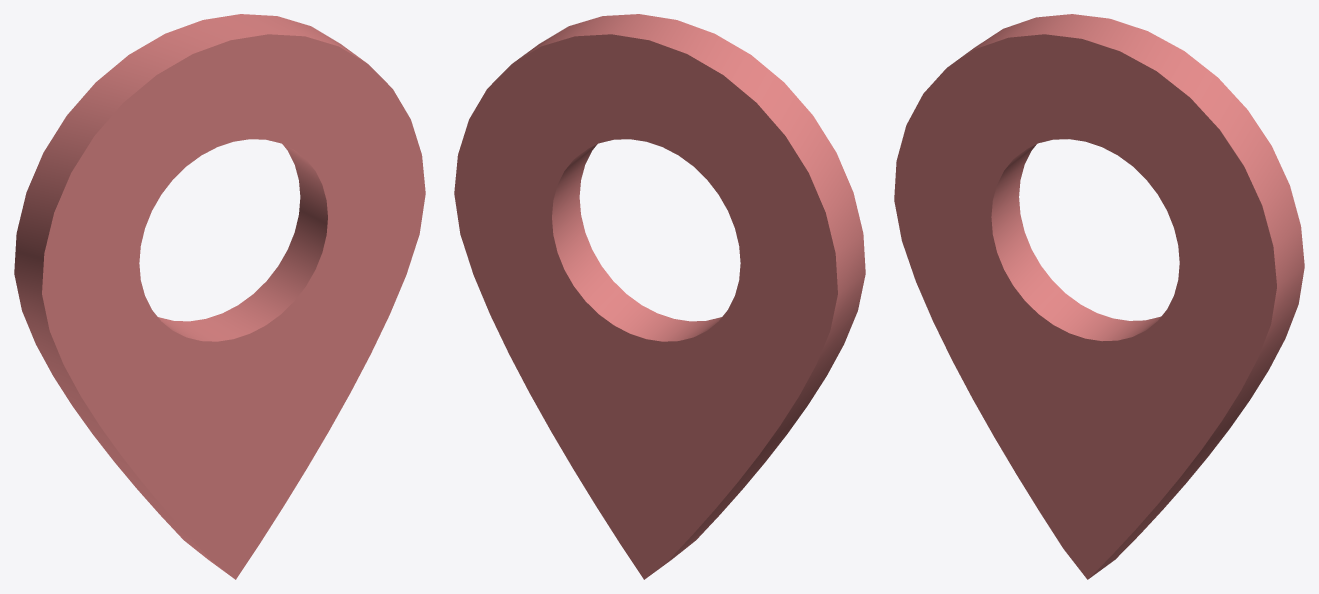
3 renders of one model, left to right at view 1: azimuth 30°, elevation 25°; view 2: azimuth 150°, elevation 25°; view 3: azimuth 330°, elevation 25°, orthographic.
Parts seen in each view (by area): view 1: 挤压; view 2: 挤压; view 3: 挤压.
Boxes of the visible parts, x1,y1,x2,y2 form: 挤压: (14,14,425,579); 挤压: (454,14,865,579); 挤压: (894,14,1304,579).
Bounding box in the file's own units: 148 × 199 × 18.5.
